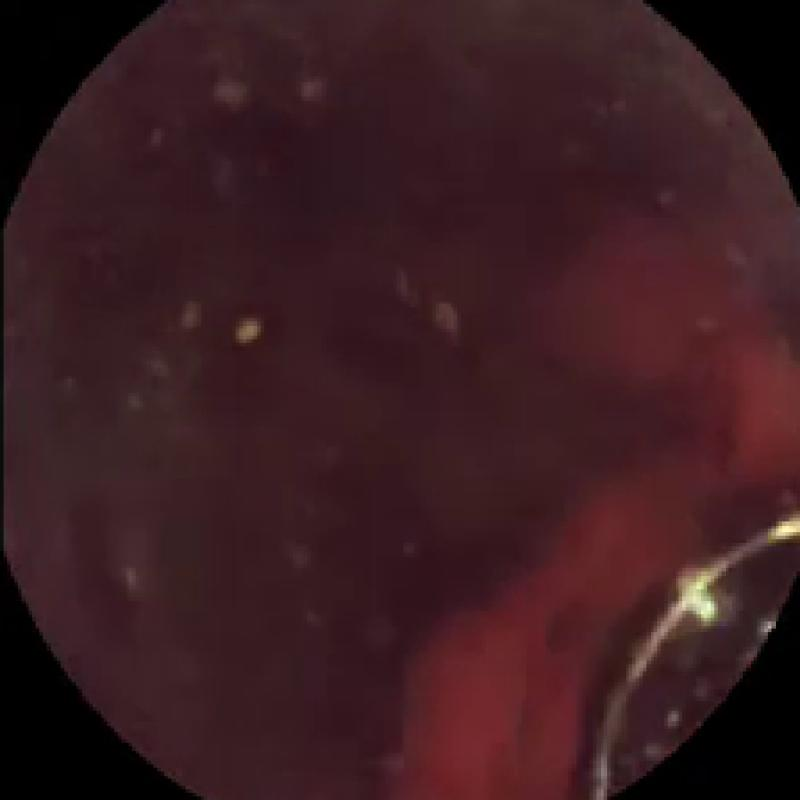bleeding: (389, 243, 800, 800)
